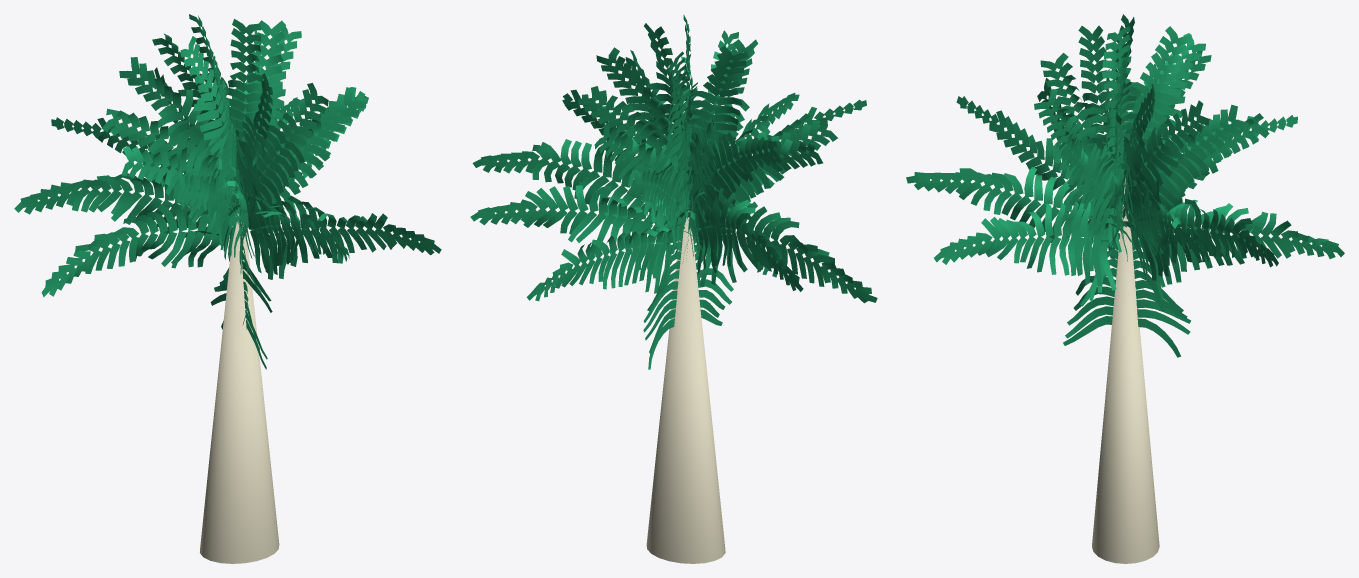
Rendered from tree.fbx.
The picture shows the model from 3 angles, left to right: view 1: azimuth 30°, elevation 25°; view 2: azimuth 150°, elevation 25°; view 3: azimuth 270°, elevation 25°; orthographic projection.
Parts seen in each view (by area): view 1: pCone2; view 2: pCone2; view 3: pCone2.
Part boxes in pixels (box(x1,y1,x2,y2)): pCone2: box(14, 14, 441, 563); pCone2: box(470, 14, 877, 563); pCone2: box(906, 14, 1344, 563).
Size of the model in its own units: 5.22 by 7.18 by 5.51.
